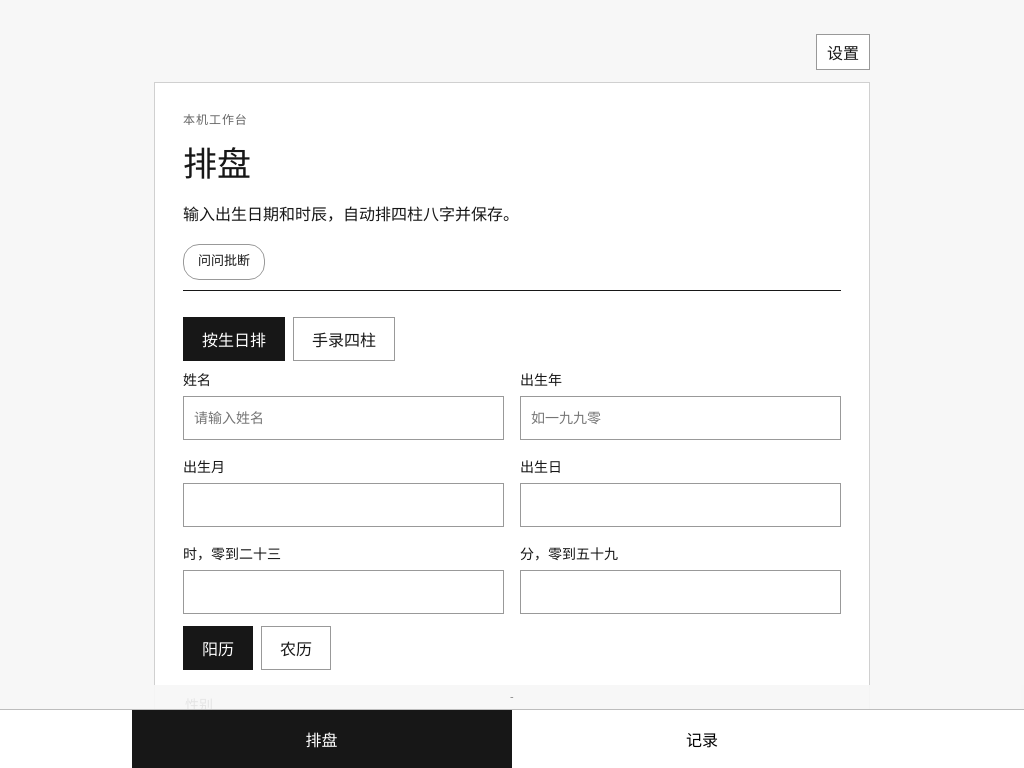
Test: simplified chart application flow › opens a person detail view with only record and analysis sections
This screenshot has width=1024, height=768.
Step 1. Click the button "记录" → (702, 739), box [512,710,892,767]
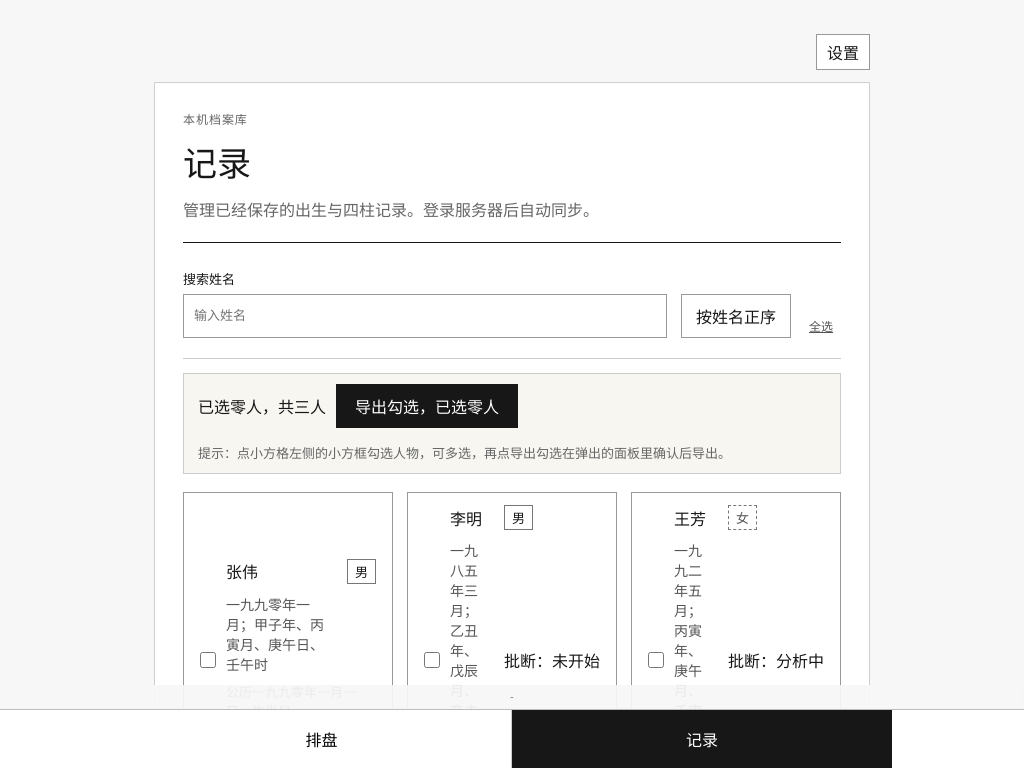
Step 2. Click the button with aria-label "查看张伟" → (301, 657), box [226,559,376,756]
(page scrolled)
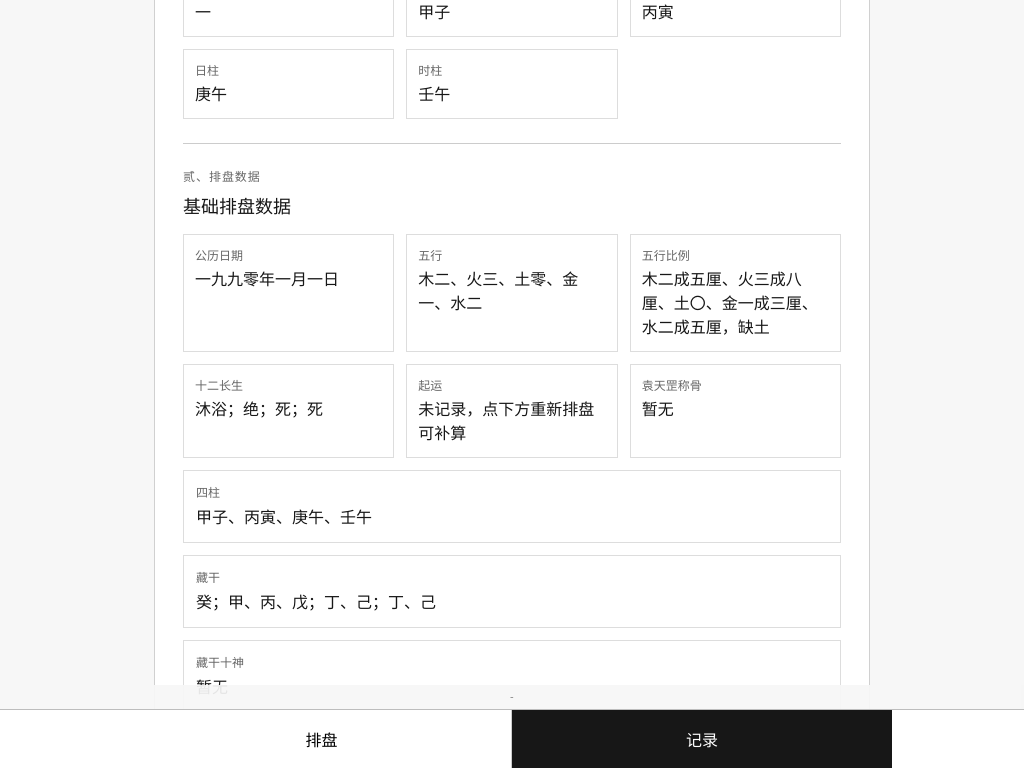
expect the text "日柱" is shown: met, box [195,64,219,78]
expect the text "时柱" is shown: met, box [418,64,442,78]
expect the text "五行" is shown: met, box [418,249,442,263]
